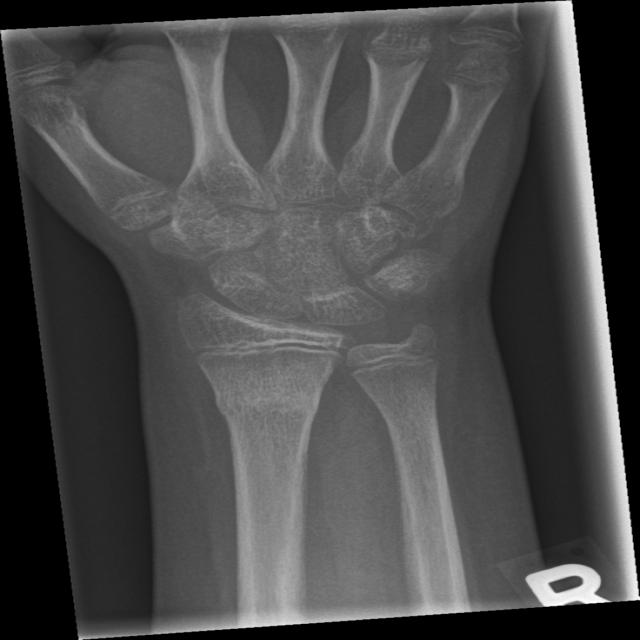radius fracture: (213, 366, 326, 470)
